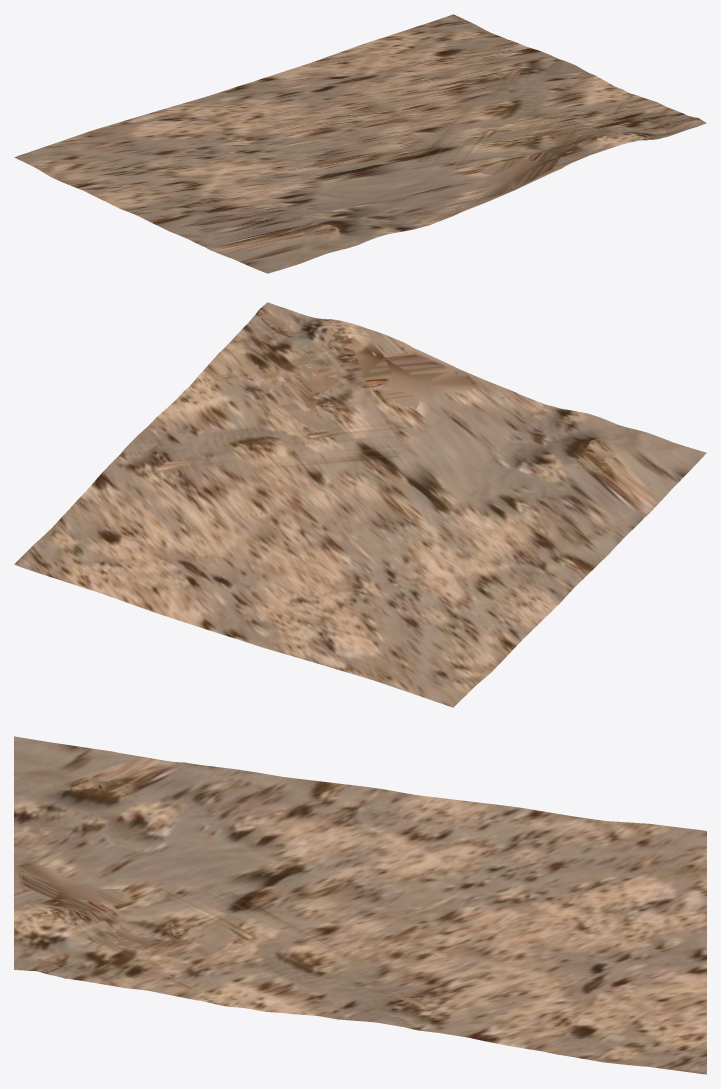
3 views of the same model, one above another, from view 1: azimuth 30°, elevation 25°; view 2: azimuth 150°, elevation 25°; view 3: azimuth 270°, elevation 25° (orthographic). The views are drawn at different scales.
Size of the model in its own units: 4.18 by 1.02 by 4.18.
Materials: 2 (2 with a texture image).
